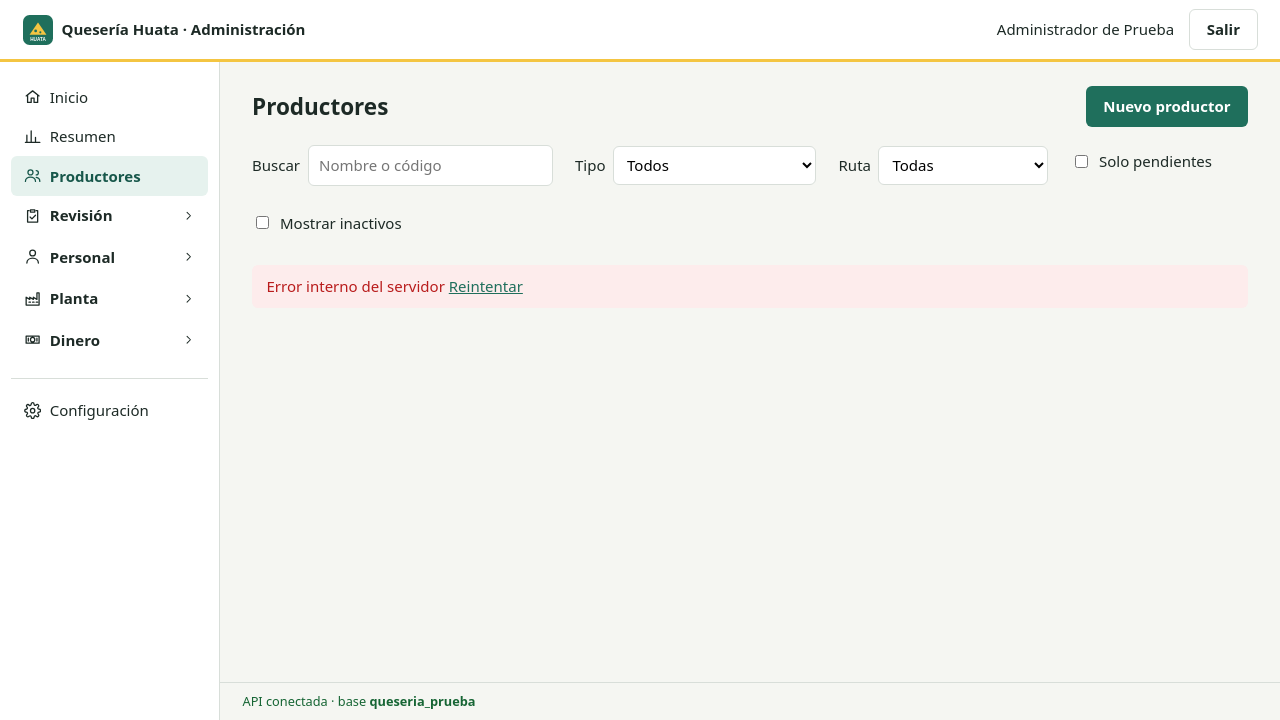
Test: lista de productores › si la API falla, muestra el mensaje y permite reintentar
Expected: the message shows "Error interno del servidor", [266,276,445,296]
Click the button "Reintentar" at (486, 286), box [449,275,523,298]
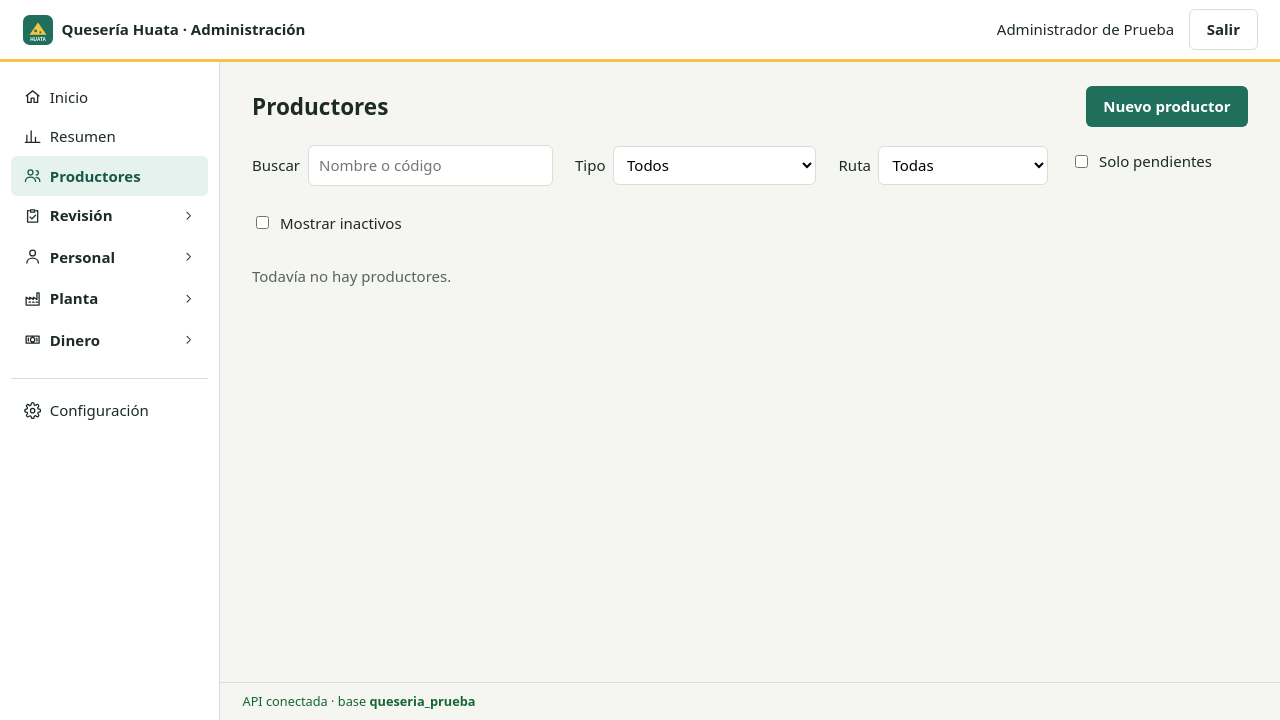
Result: the text "Todavía no hay productores." is shown at [252,266,451,286]
